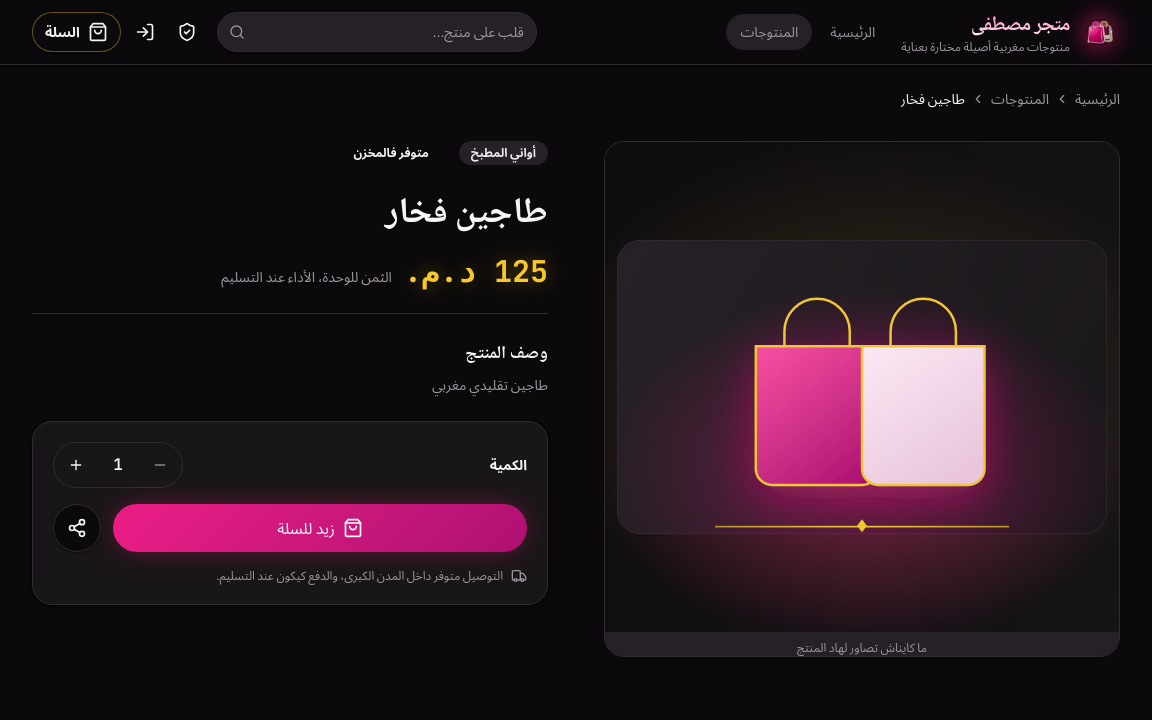
Test case: storefront journeys › adds a product to the cart from the detail page and shows the cart count
This screenshot has width=1152, height=720.
Expected: the heading "طاجين فخار" is shown, [385,187,548,231]
What coordinates should you click on to do the following:
click the button named "زيد الكمية"
I would click on:
 (76, 465)
Its box is [58,447,94,483].
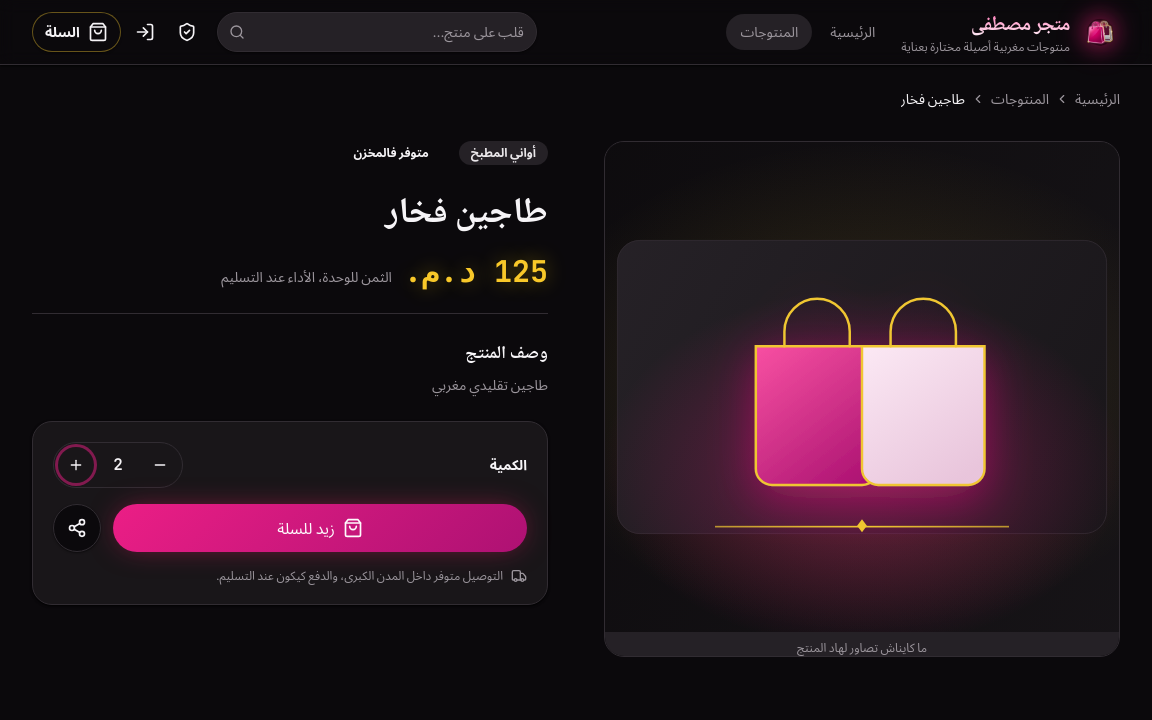
What coordinates should you click on to do the following:
click the button "زيد للسلة"
I would click on:
 (320, 528)
Its box is [113,504,527,552].
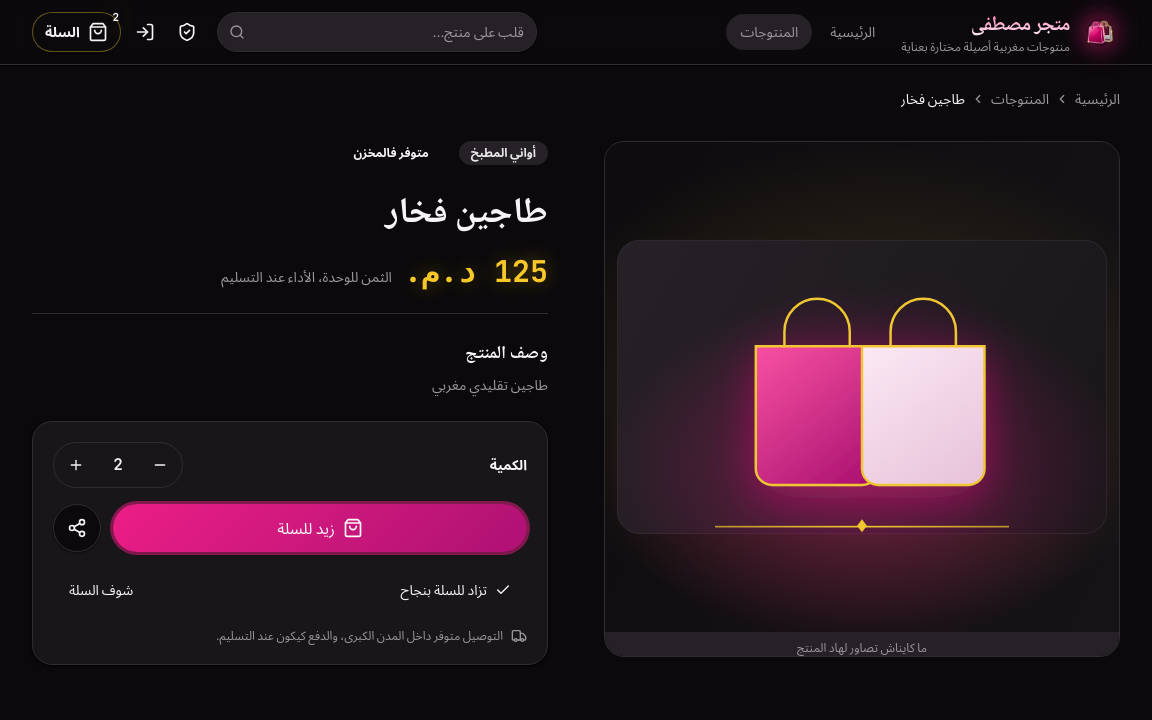
Now the text "تزاد للسلة بنجاح" is shown, box [400,580,511,600]
Now the button with aria-label "السلة، 2 منتج" is shown, box [32,12,121,52]
